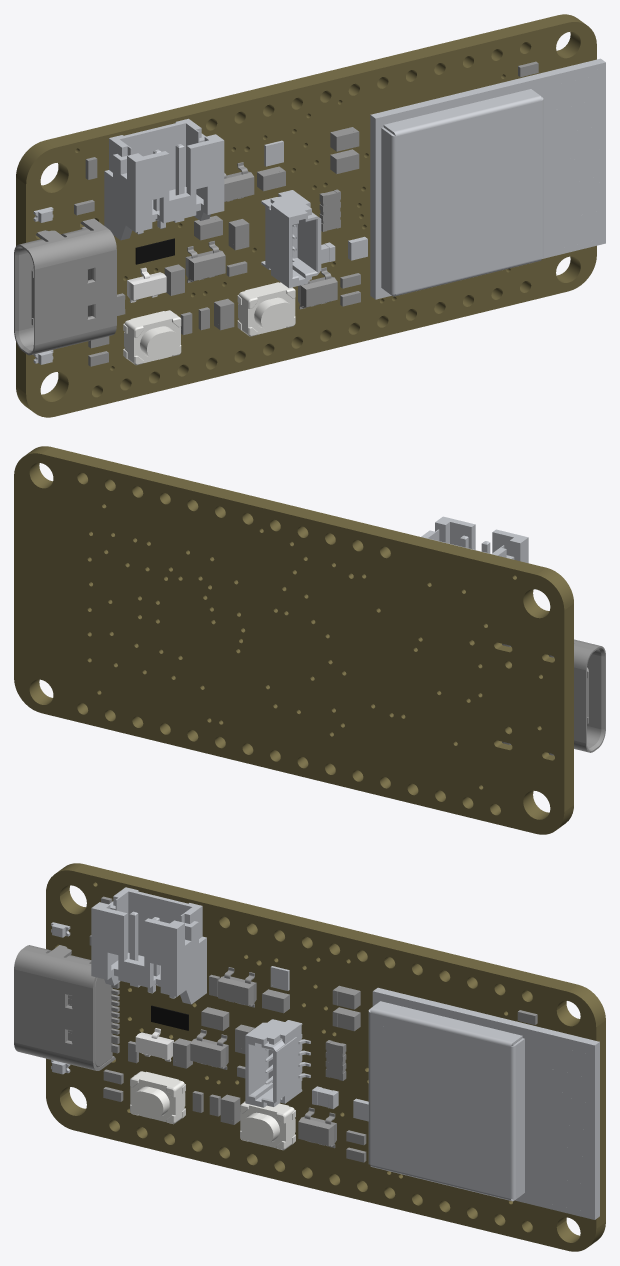
Rendered from esp32s3.glb.
3 renders of one model, top to bottom at view 1: azimuth 30°, elevation 25°; view 2: azimuth 150°, elevation 25°; view 3: azimuth 330°, elevation 25°, orthographic. The views are drawn at different scales.
Visible parts, largest first — view 1: Board, part45, part44, USB_C_CUSB31-CFM2AX-01-X, part14, BTN_KMR2_4.6X2.8 (×2), part158, 0805-NO (×7), SOT23-5 (×3), part46, SOT23-R, RESPACK_4X0603 (+2 smaller); view 2: Board, USB_C_CUSB31-CFM2AX-01-X, part14; view 3: Board, part45, part44, USB_C_CUSB31-CFM2AX-01-X, part14, BTN_KMR2_4.6X2.8 (×2), part158, SOT23-5 (×3), 0805-NO (×5), part46, SOT23-R, RESPACK_4X0603 (+2 smaller).
Boxes of the visible parts, x1,y1,x2,y2 form: Board: (16, 14, 596, 417); part45: (381, 89, 543, 296); part44: (370, 58, 605, 299); USB_C_CUSB31-CFM2AX-01-X: (14, 218, 116, 355); part14: (104, 120, 224, 240); BTN_KMR2_4.6X2.8 (×2): (123, 282, 295, 365); part158: (265, 190, 321, 287); 0805-NO (×7): (164, 127, 359, 330); SOT23-5 (×3): (185, 162, 337, 309); part46: (549, 68, 602, 249); SOT23-R: (127, 267, 166, 302); RESPACK_4X0603: (319, 189, 340, 231); Board: (14, 446, 573, 834); USB_C_CUSB31-CFM2AX-01-X: (502, 639, 605, 755); part14: (426, 516, 528, 563); Board: (46, 863, 605, 1251); part45: (368, 1001, 524, 1201); part44: (372, 987, 599, 1219); USB_C_CUSB31-CFM2AX-01-X: (14, 945, 119, 1070); part14: (91, 888, 206, 1004); BTN_KMR2_4.6X2.8 (×2): (130, 1071, 295, 1150); part158: (245, 1020, 302, 1107); SOT23-5 (×3): (190, 967, 336, 1148); 0805-NO (×5): (201, 985, 360, 1124); part46: (540, 1036, 591, 1213); SOT23-R: (135, 1028, 173, 1061); RESPACK_4X0603: (325, 1040, 346, 1080).
Bounding box in the file's own units: 0.0522 × 0.0229 × 0.00637.
